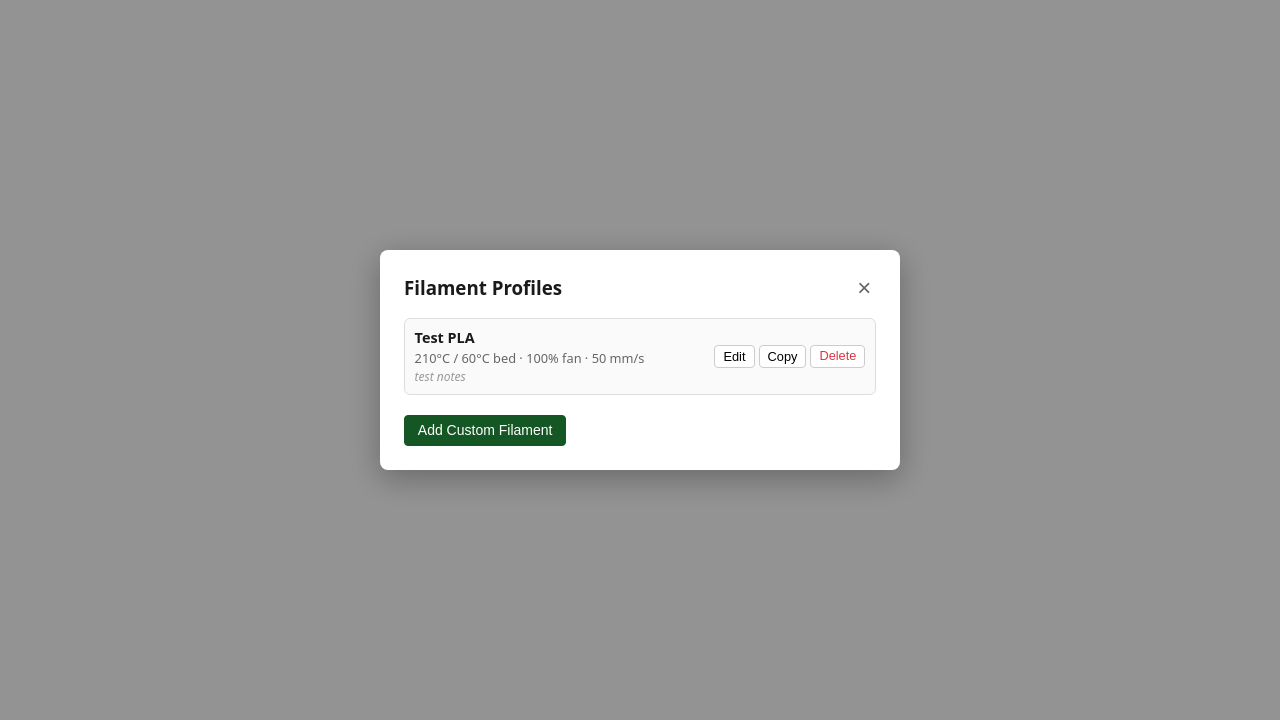
Test: FilamentManager › edit form — basic fields › renders basic fields when editing
What coordinates should you click on to do the following:
click the button "Edit"
I would click on:
 (735, 357)
Its box is [714,345,755,368].
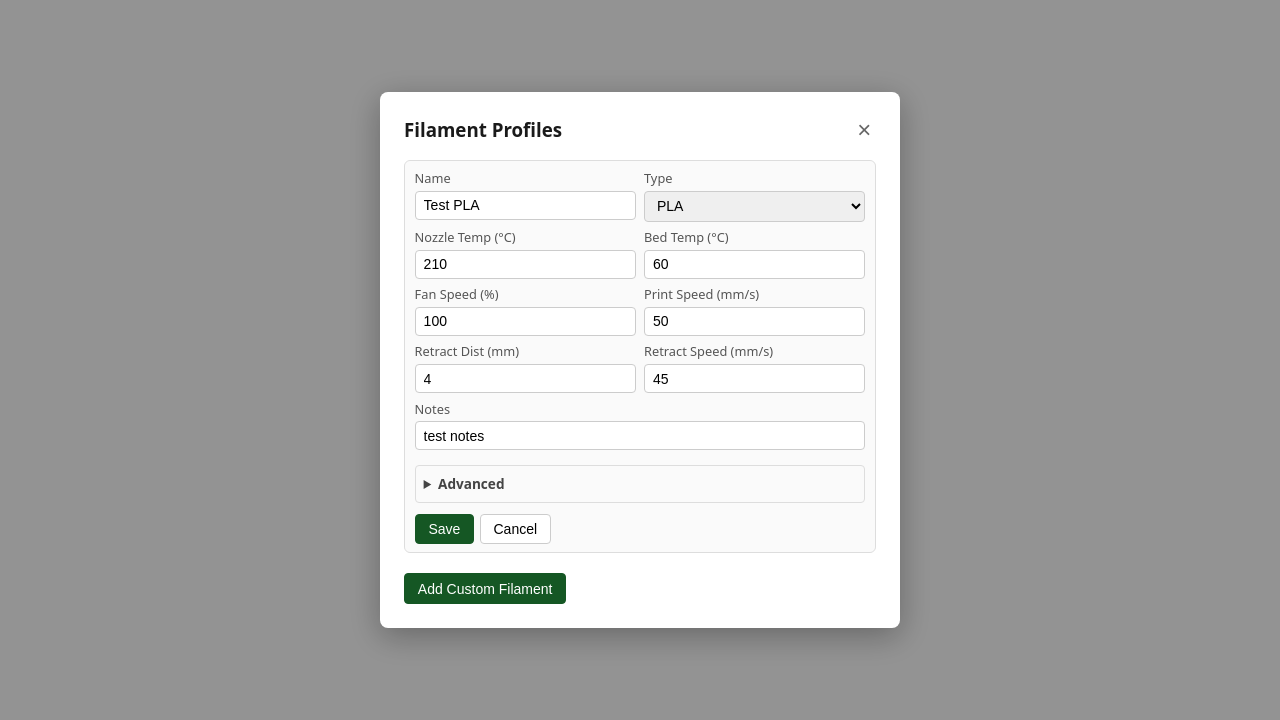
expect the text "Name" is shown: met, box [415,169,451,187]
expect the text "Type" is shown: met, box [644,169,672,187]
expect the text "Nozzle Temp (°C)" is shown: met, box [415,228,516,246]
